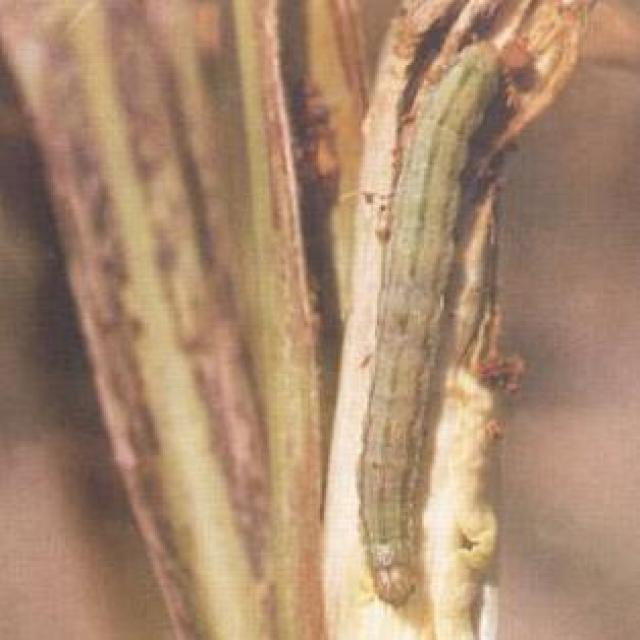BeetArmyWorm-Larva-: (348, 42, 516, 608)
